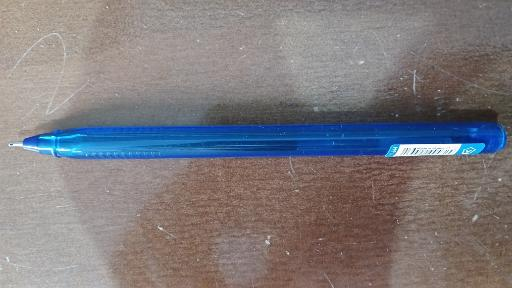pen: (6, 123, 512, 163)
